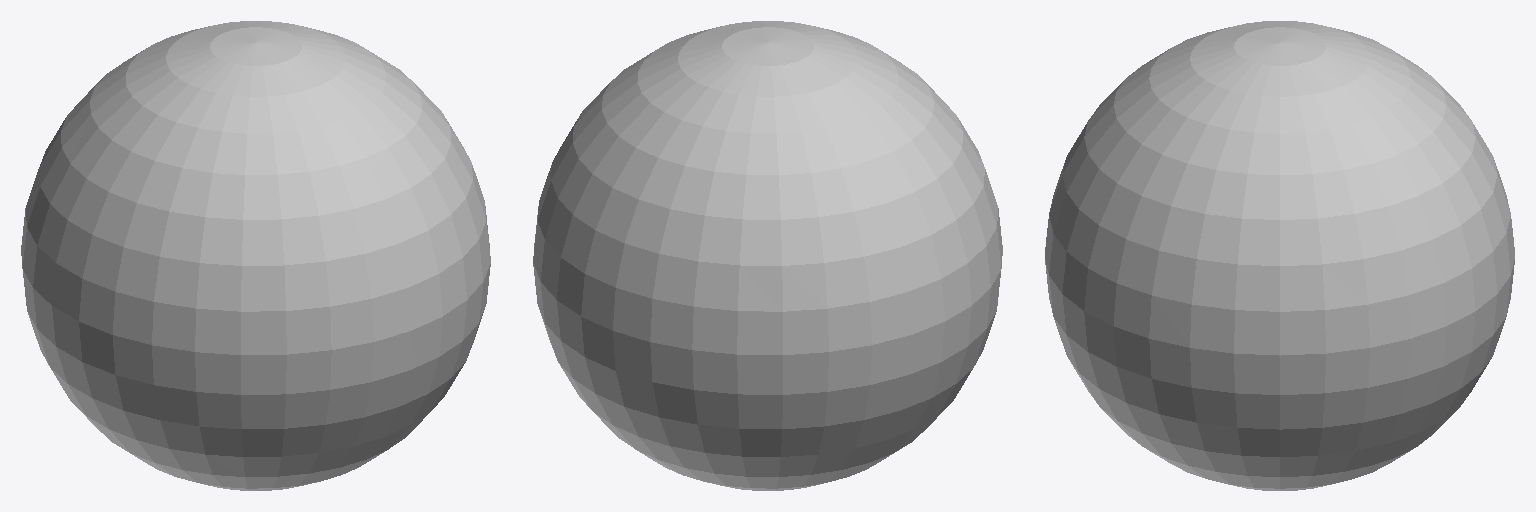
Rendered from ボール.obj.
3 renders of one model, left to right at view 1: azimuth 30°, elevation 25°; view 2: azimuth 150°, elevation 25°; view 3: azimuth 270°, elevation 25°, orthographic.
Parts seen in each view (by area): view 1: Sphere001; view 2: Sphere001; view 3: Sphere001.
Boxes of the visible parts, <box> form: Sphere001: <box>21,21,490,490</box>; Sphere001: <box>533,21,1002,490</box>; Sphere001: <box>1045,21,1514,490</box>.
Size of the model in its own units: 5.58 by 5.58 by 5.58.